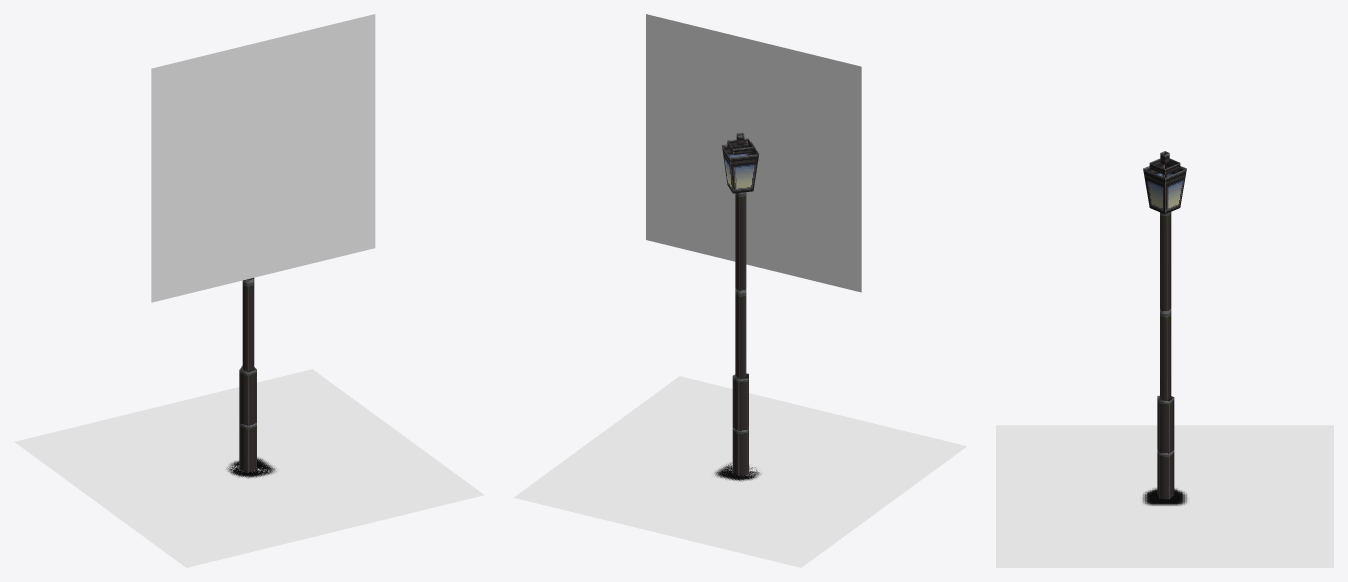
The model's file is F2_Walk_LampPole.dae.
3 renders of one model, left to right at view 1: azimuth 30°, elevation 25°; view 2: azimuth 150°, elevation 25°; view 3: azimuth 270°, elevation 25°, orthographic. The views are drawn at different scales.
Visible parts, largest first — view 1: LampPole_Light_1_0_node, LampPole_Light1_2_0_node, LampPole_01_0_0_node, LampPole_Shadow_3_0_node; view 2: LampPole_Light_1_0_node, LampPole_Light1_2_0_node, LampPole_01_0_0_node, LampPole_Shadow_3_0_node; view 3: LampPole_Light1_2_0_node, LampPole_01_0_0_node, LampPole_Shadow_3_0_node.
Part boxes in pixels (bbox=[...]): LampPole_Light_1_0_node: bbox=[151, 14, 375, 302]; LampPole_Light1_2_0_node: bbox=[14, 369, 484, 567]; LampPole_01_0_0_node: bbox=[239, 278, 256, 472]; LampPole_Shadow_3_0_node: bbox=[213, 453, 285, 483]; LampPole_Light_1_0_node: bbox=[646, 14, 861, 292]; LampPole_Light1_2_0_node: bbox=[513, 376, 966, 567]; LampPole_01_0_0_node: bbox=[722, 132, 758, 475]; LampPole_Shadow_3_0_node: bbox=[705, 459, 768, 486]; LampPole_Light1_2_0_node: bbox=[996, 425, 1333, 567]; LampPole_01_0_0_node: bbox=[1143, 151, 1186, 499]; LampPole_Shadow_3_0_node: bbox=[1138, 485, 1191, 507].
Size of the model in its own units: 31.2 by 43.7 by 31.2.
Materials: 4 (4 with a texture image).
